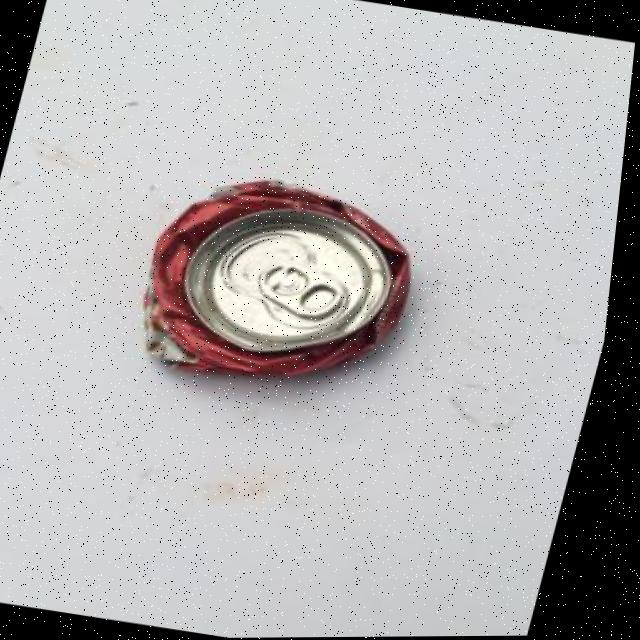metal: (119, 158, 446, 413)
